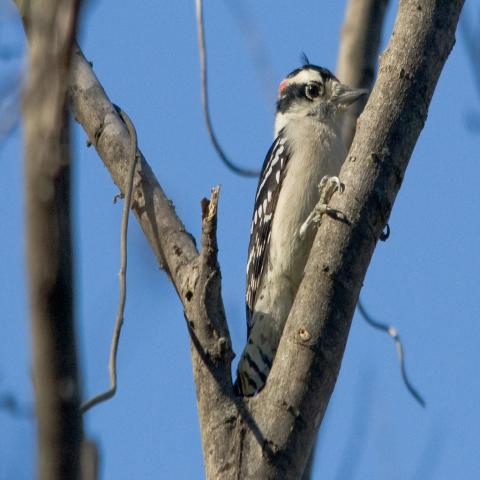bird: (232, 54, 370, 398)
